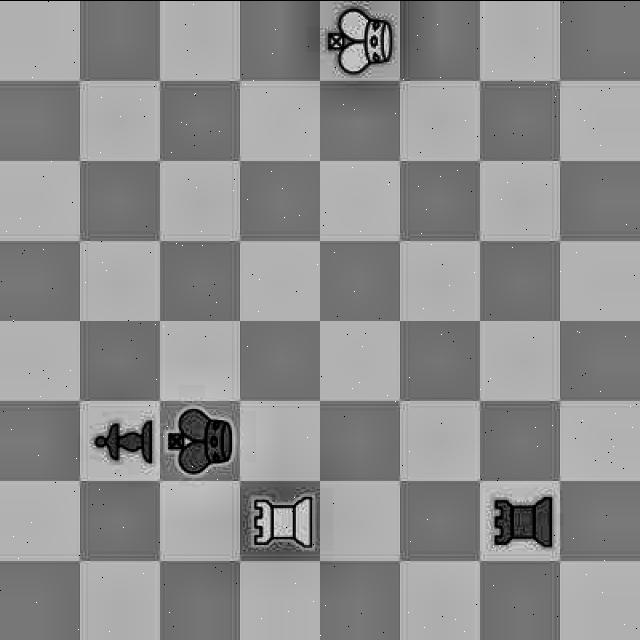black king: (168, 398, 234, 476)
black pawn: (80, 403, 159, 473)
black rook: (485, 482, 559, 562)
white king: (325, 3, 401, 81)
white rook: (245, 484, 319, 556)
